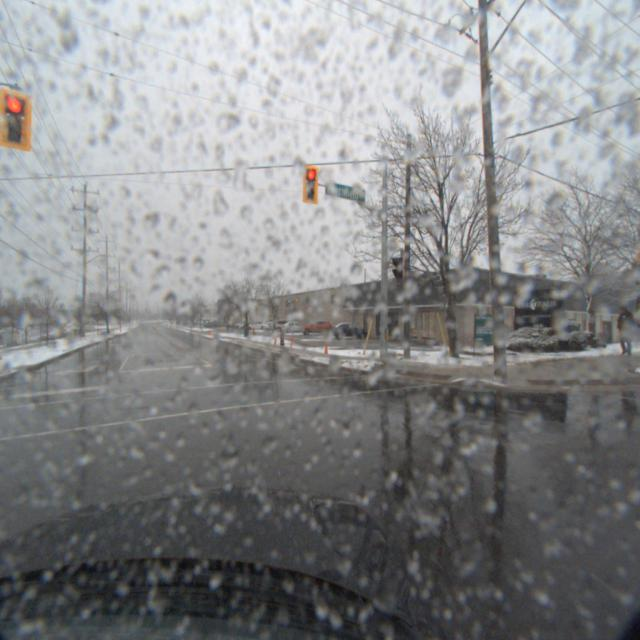Car: (324, 322, 366, 342), (294, 320, 329, 338), (275, 322, 305, 336)
Pedestrian: (605, 302, 639, 358)
